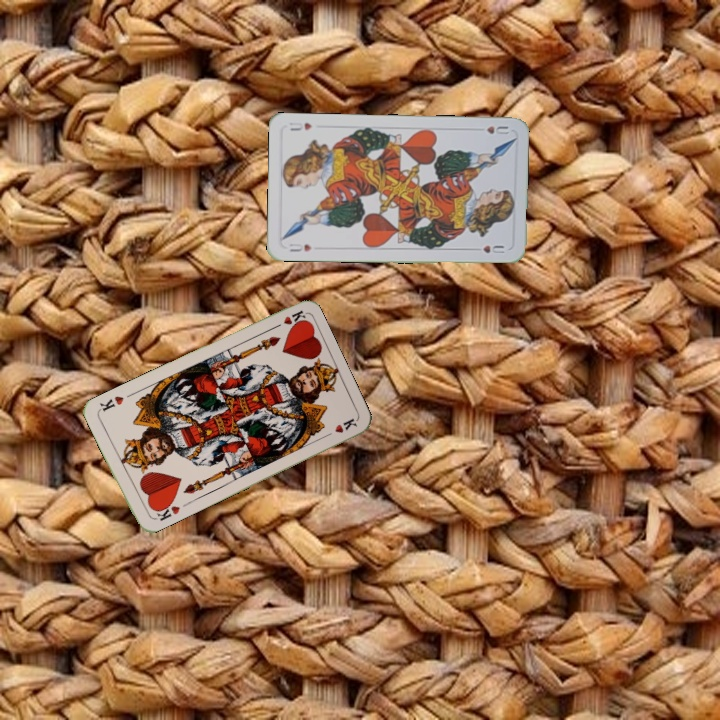HK: (267, 306, 307, 332), (149, 497, 183, 523)
HU: (285, 239, 314, 254), (482, 122, 511, 137)
